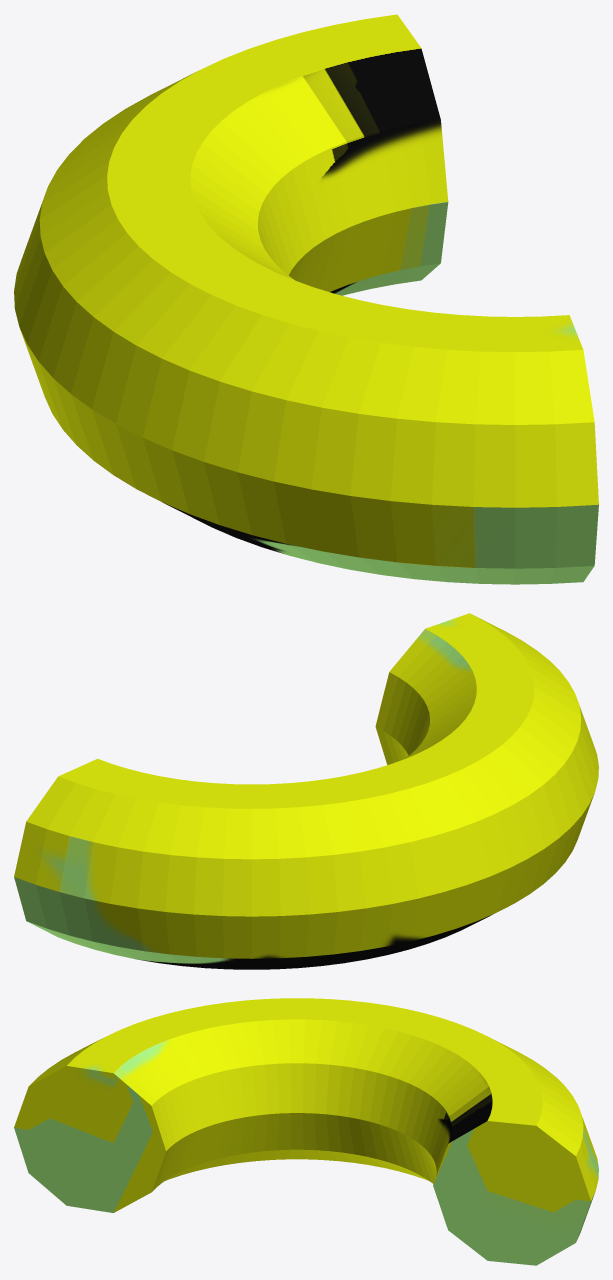
File: Macaroni3.gltf
The picture shows the model from 3 angles, top to bottom: view 1: azimuth 30°, elevation 25°; view 2: azimuth 150°, elevation 25°; view 3: azimuth 270°, elevation 25°; orthographic projection. The views are drawn at different scales.
Visible parts, largest first — view 1: Cube; view 2: Cube; view 3: Cube.
Boxes of the visible parts, bbox=[...] form: Cube: bbox=[14, 14, 598, 584]; Cube: bbox=[14, 613, 598, 969]; Cube: bbox=[14, 998, 598, 1265].
Size of the model in its own units: 1.14 by 0.4755 by 1.8.
1 material, 1 textured.
